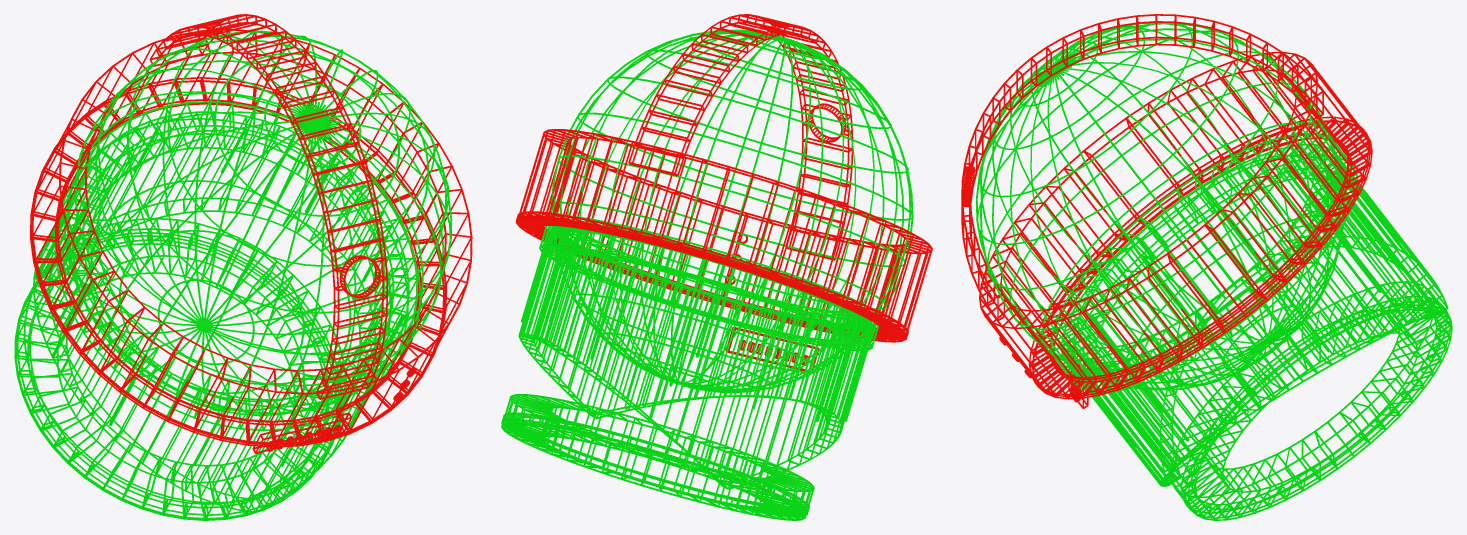
File: missile-guidance-system-highlight-targeting-io.glb
3 renders of one model, left to right at view 1: azimuth 30°, elevation 25°; view 2: azimuth 150°, elevation 25°; view 3: azimuth 270°, elevation 25°, orthographic. The views are drawn at different scales.
Parts seen in each view (by area): view 1: targeting-io technical wire, holographic-sphere technical wire, armoured-computer-casing technical wire, chassis technical wire; view 2: armoured-computer-casing technical wire, targeting-io technical wire, holographic-sphere technical wire, chassis technical wire; view 3: targeting-io technical wire, armoured-computer-casing technical wire, holographic-sphere technical wire, chassis technical wire.
Boxes of the visible parts, <box> form: targeting-io technical wire: <box>30,14,472,453</box>; holographic-sphere technical wire: <box>66,30,452,416</box>; armoured-computer-casing technical wire: <box>33,101,417,512</box>; chassis technical wire: <box>14,217,346,520</box>; armoured-computer-casing technical wire: <box>518,215,878,489</box>; targeting-io technical wire: <box>515,14,932,370</box>; holographic-sphere technical wire: <box>550,29,913,392</box>; chassis technical wire: <box>501,393,814,520</box>; targeting-io technical wire: <box>961,14,1372,408</box>; armoured-computer-casing technical wire: <box>1050,133,1448,486</box>; holographic-sphere technical wire: <box>976,22,1345,390</box>; chassis technical wire: <box>1170,281,1452,520</box>.
Bounding box in the file's own units: 2.17 × 2.71 × 2.56.
